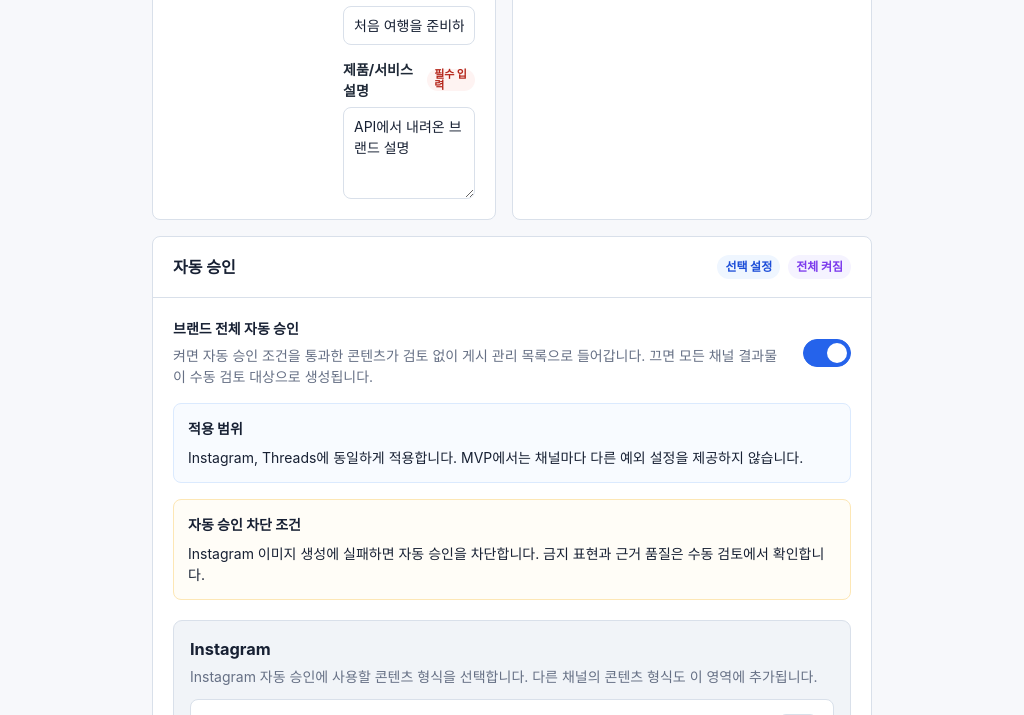
Test: BrandSettingsPage › turns every Instagram format off with the master switch
(page scrolled)
Click the switch named "브랜드 전체 자동 승인" at (827, 353), box 803,339 -> 851,367
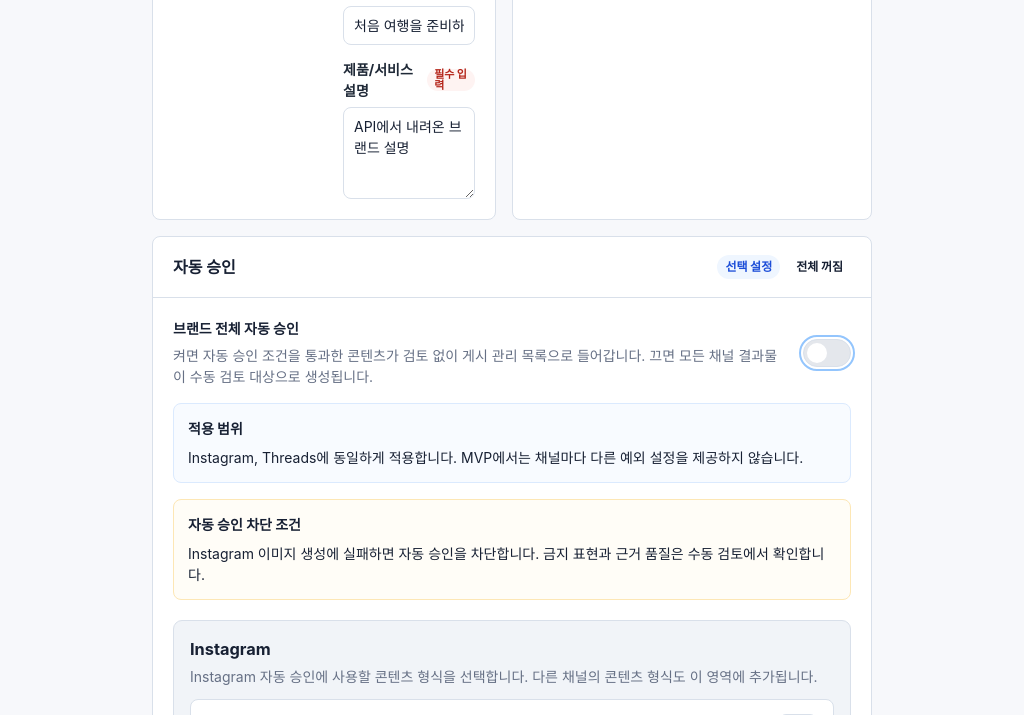
Now the text "전체 꺼짐" is shown, box 796,259 -> 843,274
